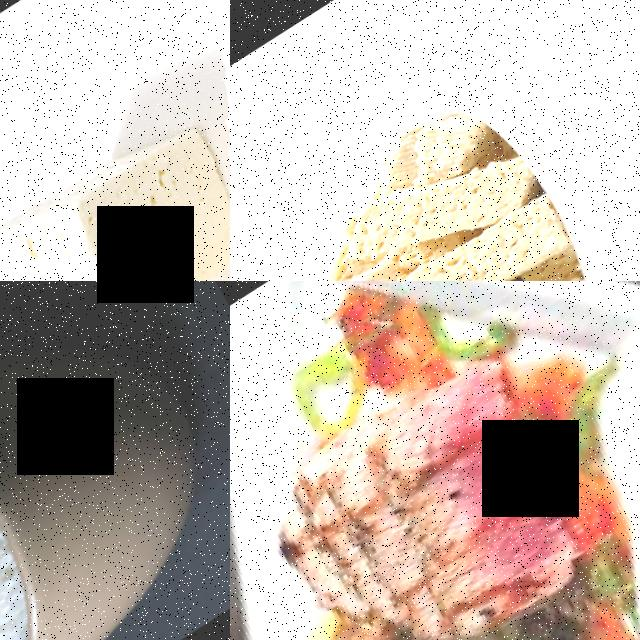tofu: (0, 104, 230, 281), (331, 127, 535, 281), (140, 0, 230, 248), (377, 195, 572, 281)
white rice: (0, 398, 72, 640)
